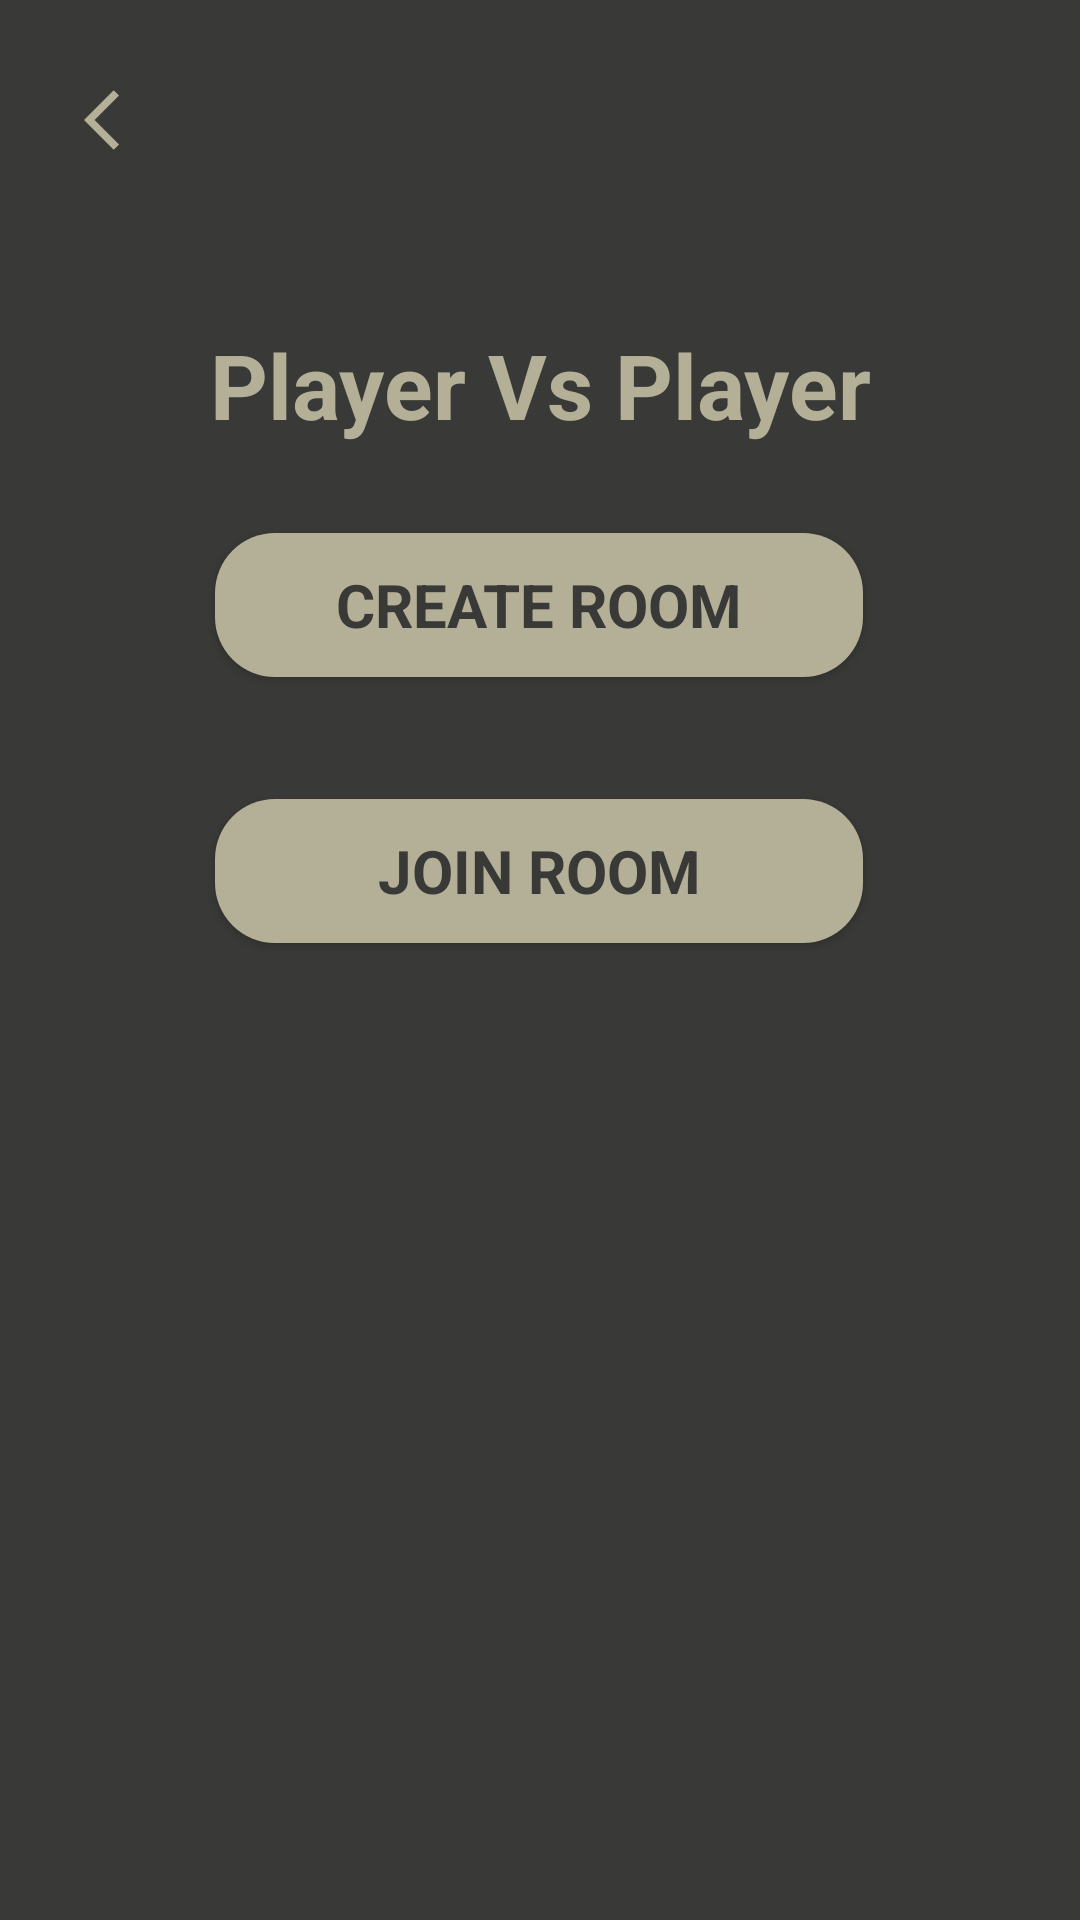

Named icons in this screenshot (1080×1920) and their bounding boxes, bbox(x1, y1, x2, y2):
arrow back: bbox(84, 90, 119, 150)
